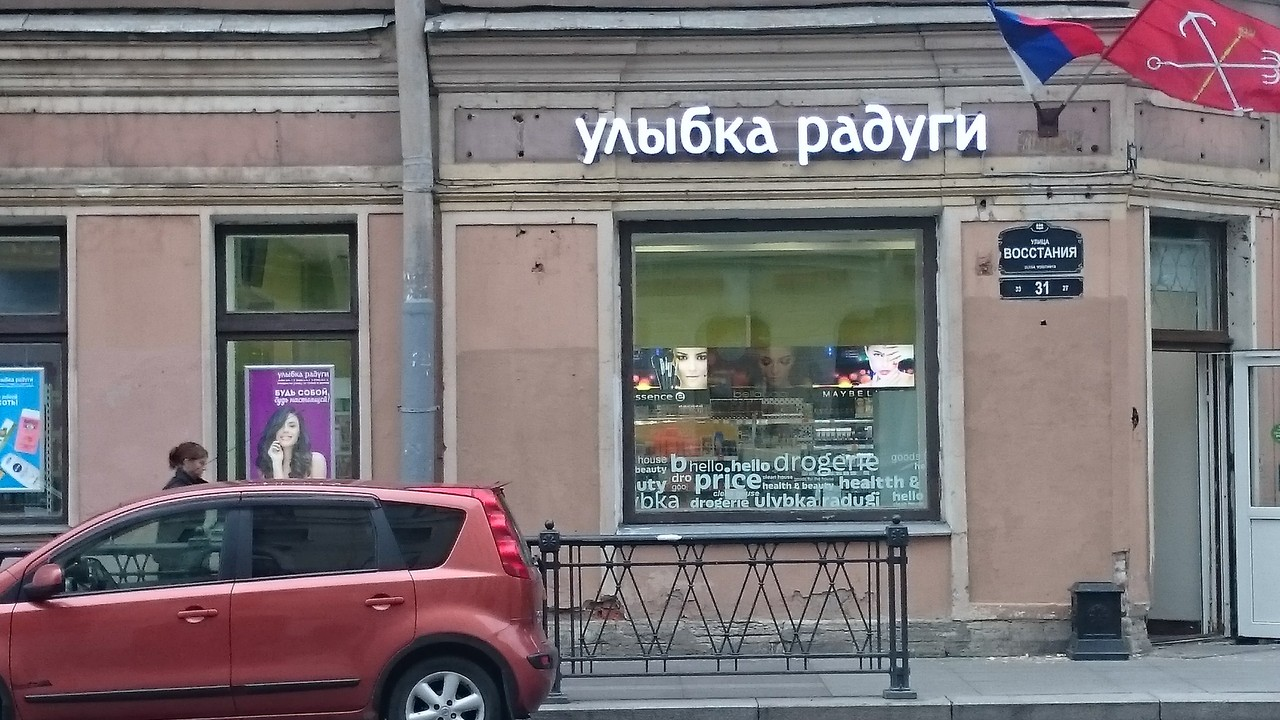signboard: (570, 102, 988, 169)
window: (622, 221, 932, 525), (219, 334, 355, 484), (218, 224, 354, 324)
